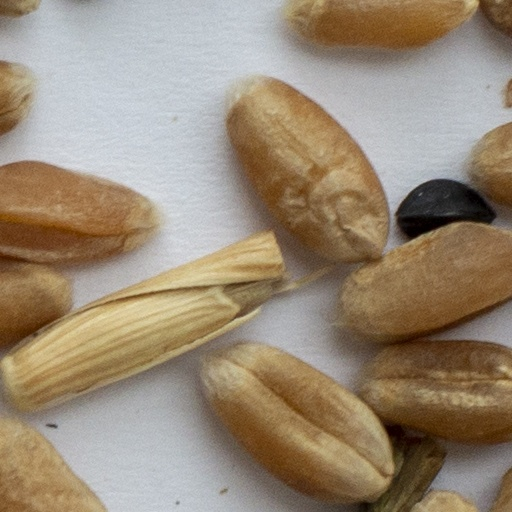Fallopia-Convolvulus-poly: (397, 180, 495, 236)
Peel-poly: (1, 234, 284, 411)
